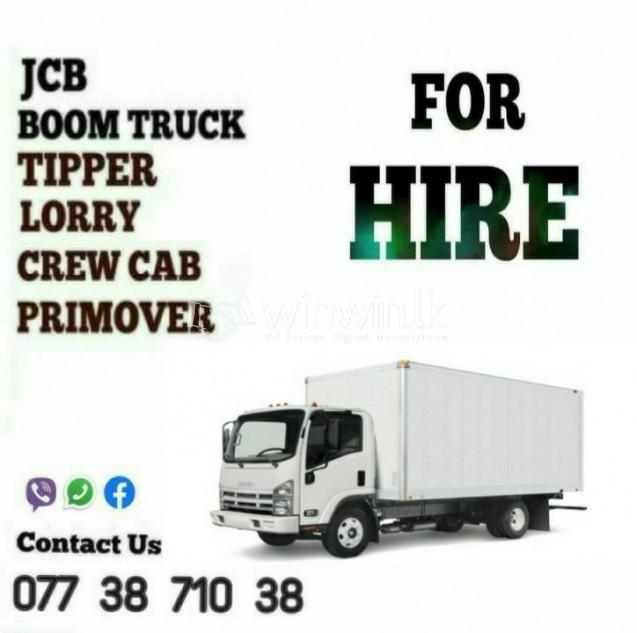truck: (208, 359, 588, 559)
